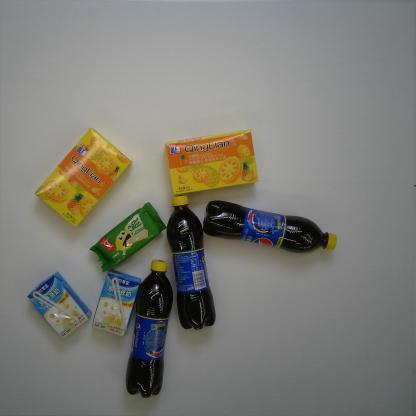Dessert: (34, 127, 132, 228), (164, 129, 260, 195), (89, 201, 167, 273)
Drink: (202, 200, 338, 254), (124, 258, 174, 399), (166, 194, 216, 332)
Milk: (26, 271, 92, 340), (91, 269, 142, 338)
